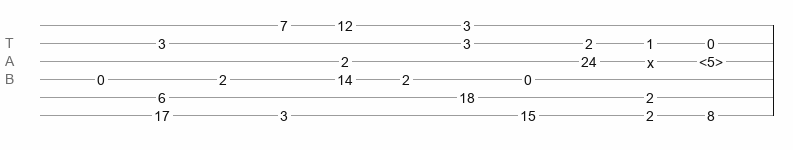0: (97, 72, 105, 82), (524, 72, 532, 82), (707, 36, 715, 46)
1: (646, 36, 654, 46)
12: (337, 18, 353, 28)
14: (337, 72, 353, 82)
15: (520, 108, 536, 118)
17: (154, 108, 170, 118)
18: (459, 90, 475, 100)
2: (219, 72, 227, 82), (341, 54, 349, 64), (402, 72, 410, 82), (585, 36, 593, 46), (646, 108, 654, 118), (646, 90, 654, 100)
24: (581, 54, 597, 64)
3: (158, 36, 166, 46), (280, 108, 288, 118), (463, 18, 471, 28), (463, 36, 471, 46)
6: (158, 90, 166, 100)
7: (280, 18, 288, 28)
8: (707, 108, 715, 118)
harmonic: (699, 54, 723, 64)
x: (647, 55, 654, 63)
